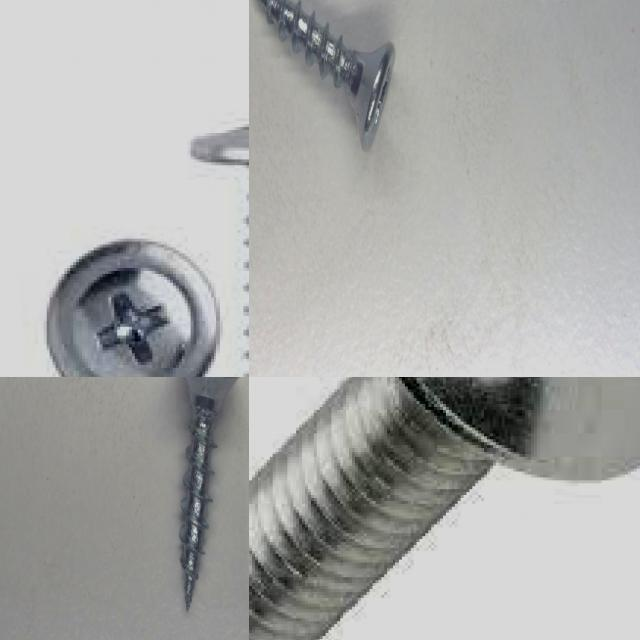Screw: (249, 377, 640, 640), (44, 239, 223, 377), (258, 0, 395, 150), (179, 377, 238, 608)
